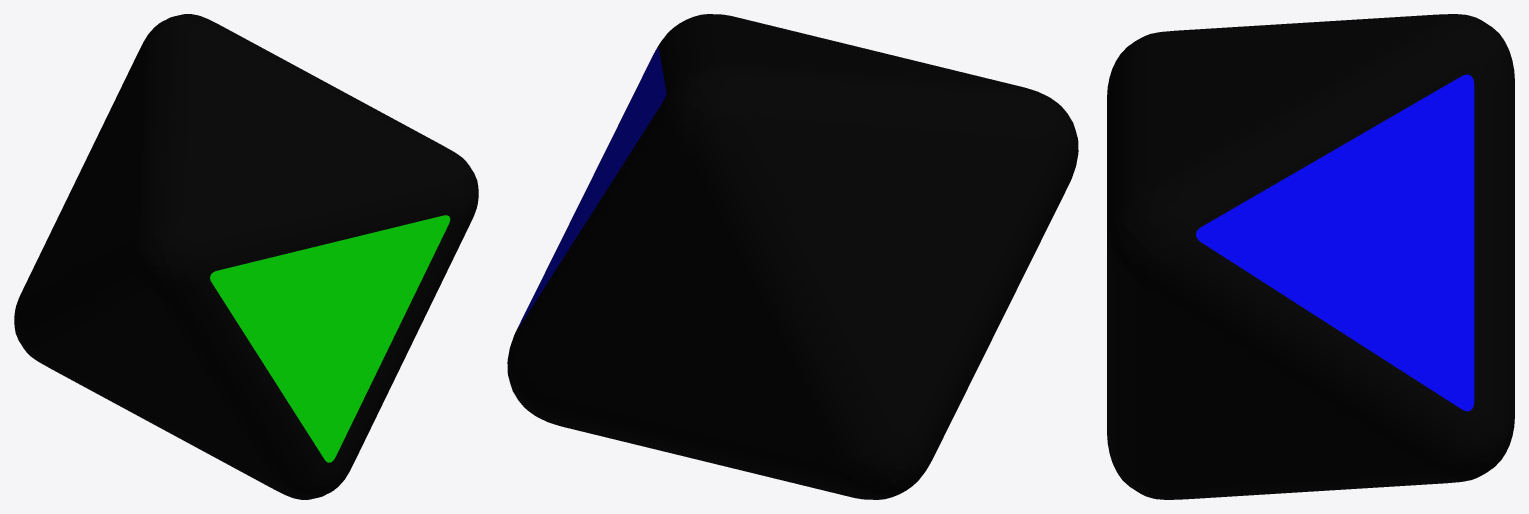
3 renders of one model, left to right at view 1: azimuth 30°, elevation 25°; view 2: azimuth 150°, elevation 25°; view 3: azimuth 270°, elevation 25°, orthographic. The views are drawn at different scales.
Parts seen in each view (by area): view 1: o_bg; view 2: o_bg; view 3: o_bg.
Boxes of the visible parts, x1,y1,x2,y2 form: o_bg: (14,14,478,499); o_bg: (507,14,1078,499); o_bg: (1107,14,1514,499).
Bounding box in the file's own units: 154 × 171 × 133.
